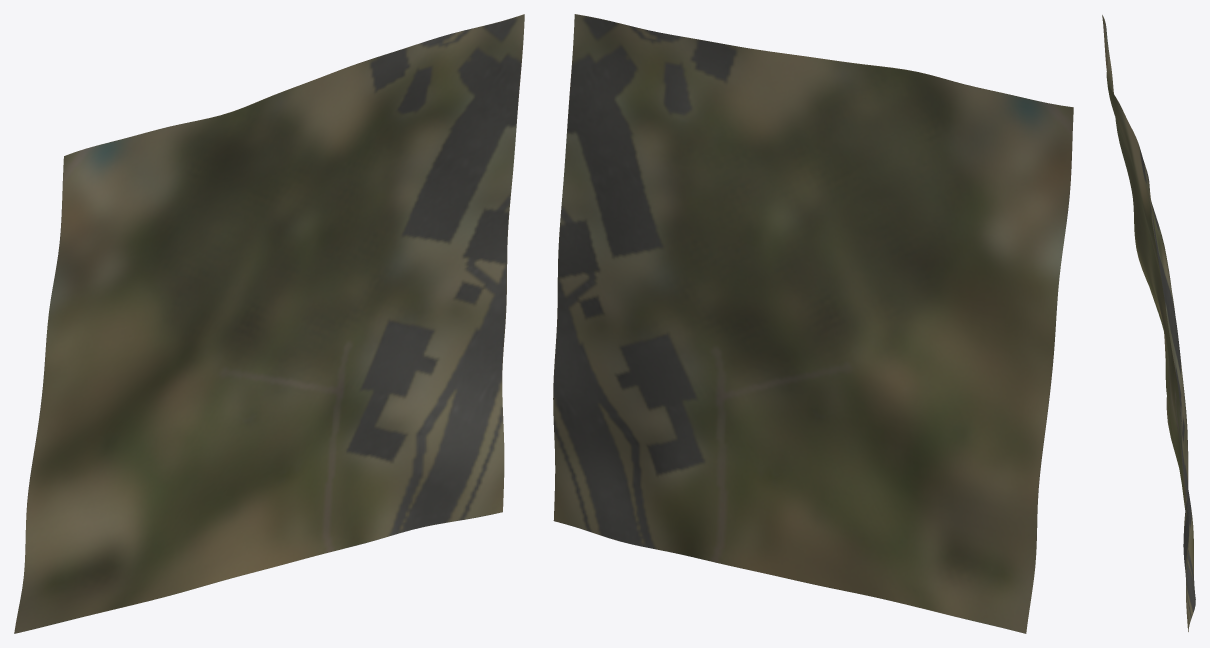
Rendered from ground_mid_04_03.obj.
3 views of the same model, side by side, from view 1: azimuth 30°, elevation 25°; view 2: azimuth 150°, elevation 25°; view 3: azimuth 270°, elevation 25° (orthographic). The views are drawn at different scales.
Parts seen in each view (by area): view 1: ground_mid_04_03; view 2: ground_mid_04_03; view 3: ground_mid_04_03.
Boxes of the visible parts, x1,y1,x2,y2 form: ground_mid_04_03: (14,14,524,633); ground_mid_04_03: (553,14,1073,633); ground_mid_04_03: (1102,15,1195,631).
Size of the model in its own units: 200 by 200 by 40.16.
Materials: 1 (1 with a texture image).
